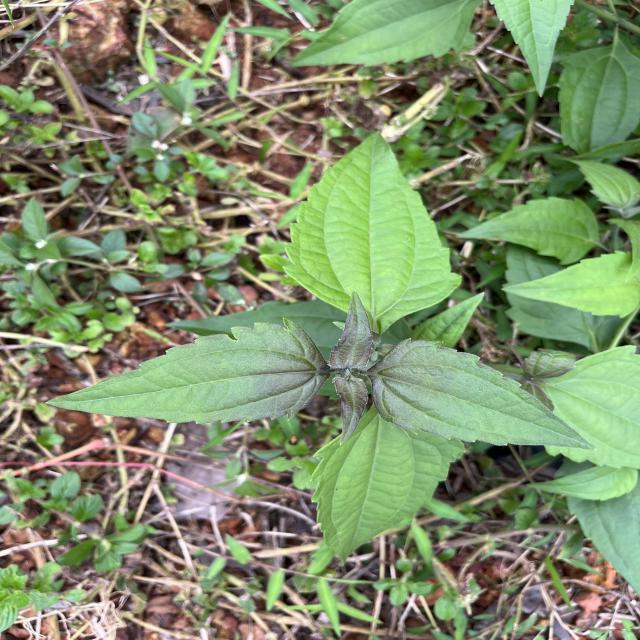Chromolaena odorata: (42, 313, 333, 428), (368, 334, 601, 452)
